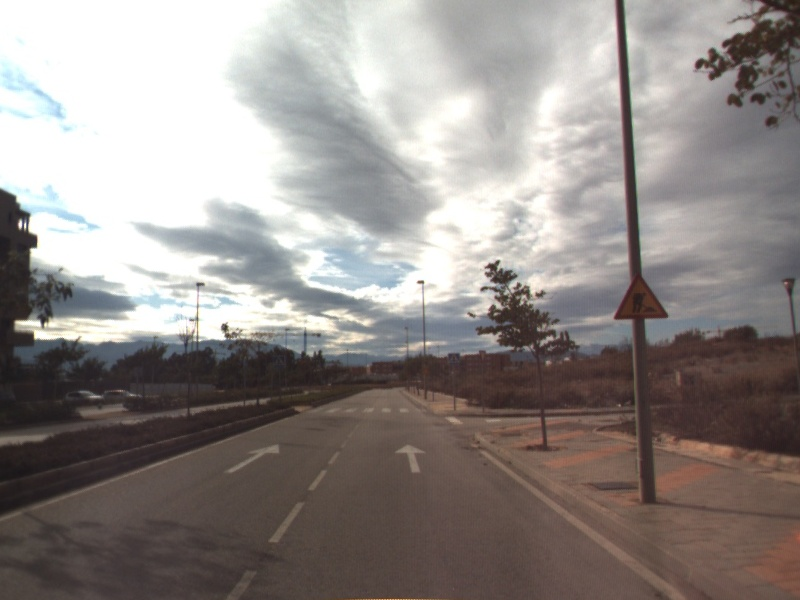STRAIGHT: (221, 442, 282, 475), (393, 442, 428, 474)
